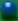blue: (0, 0, 18, 21)
